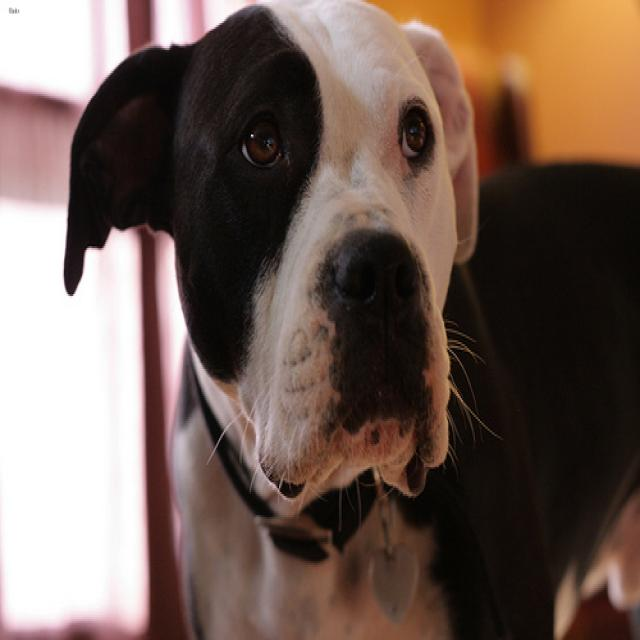dog-american_bulldog: (55, 2, 637, 636)
